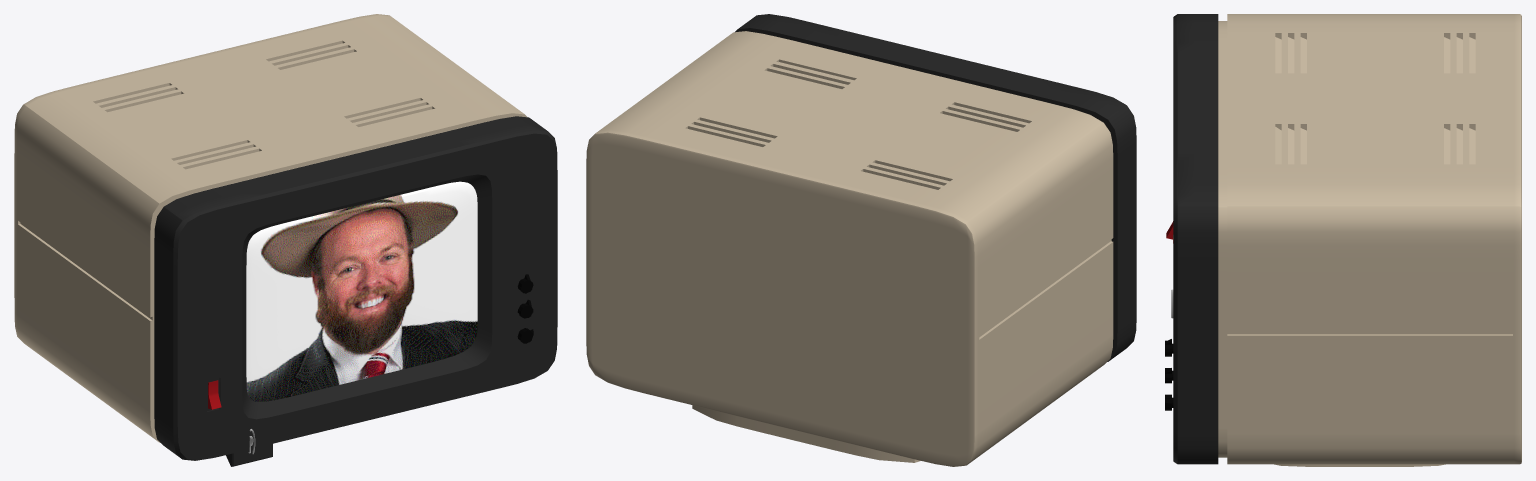
Rendered from comp wip 9.gltf.
3 views of the same model, side by side, from view 1: azimuth 30°, elevation 25°; view 2: azimuth 150°, elevation 25°; view 3: azimuth 270°, elevation 25° (orthographic). The views are drawn at different scales.
Parts seen in each view (by area): view 1: Case, Glass; view 2: Case; view 3: Case.
Boxes of the visible parts, x1,y1,x2,y2 form: Case: [14, 14, 557, 466]; Glass: [246, 181, 477, 401]; Case: [586, 14, 1136, 466]; Case: [1173, 14, 1521, 466].
Size of the model in its own units: 3.2 by 2.2 by 2.38.
6 materials, 1 textured.
